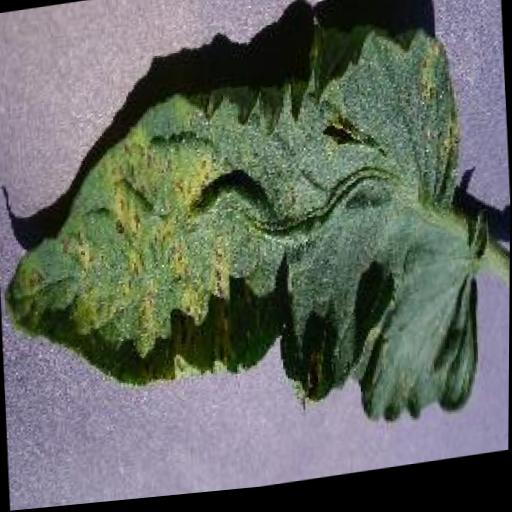Septoria: (0, 24, 485, 486)
